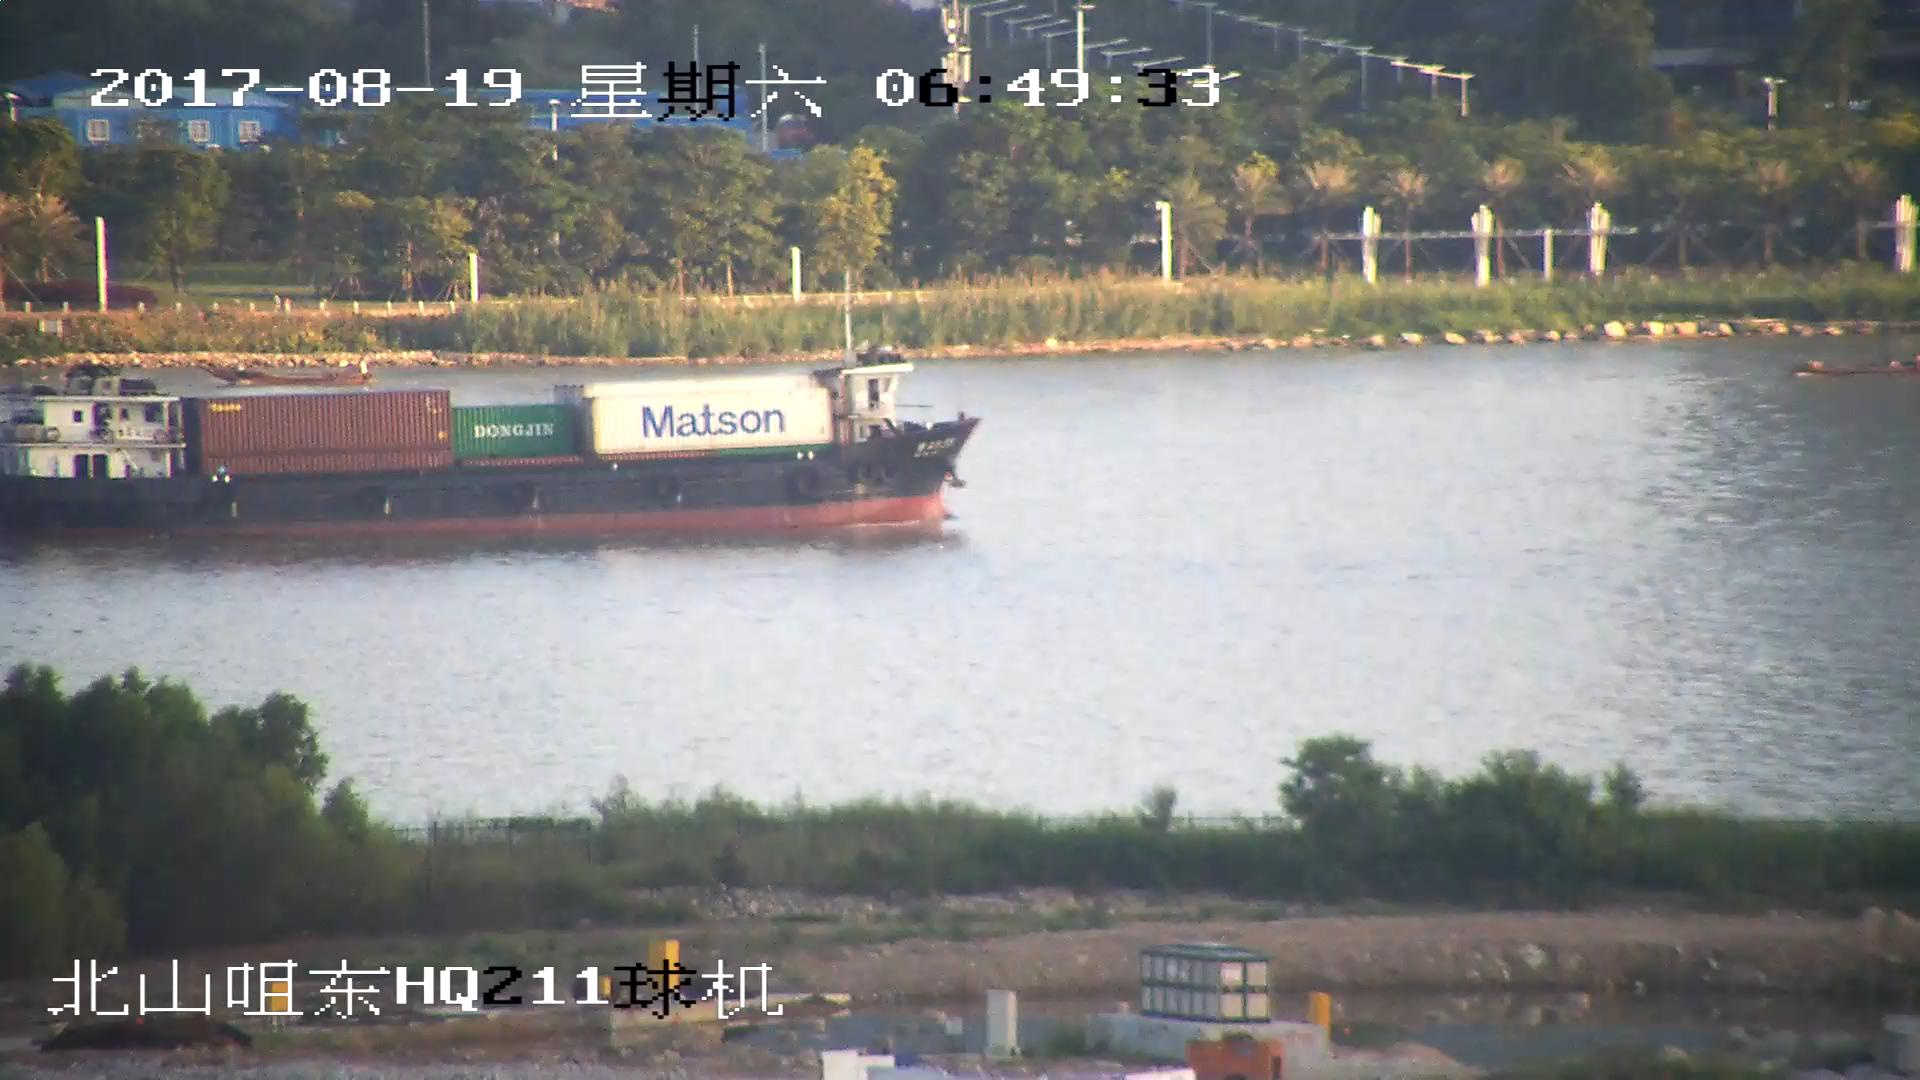container ship: (1, 351, 967, 535)
fishing boat: (201, 356, 374, 388)
